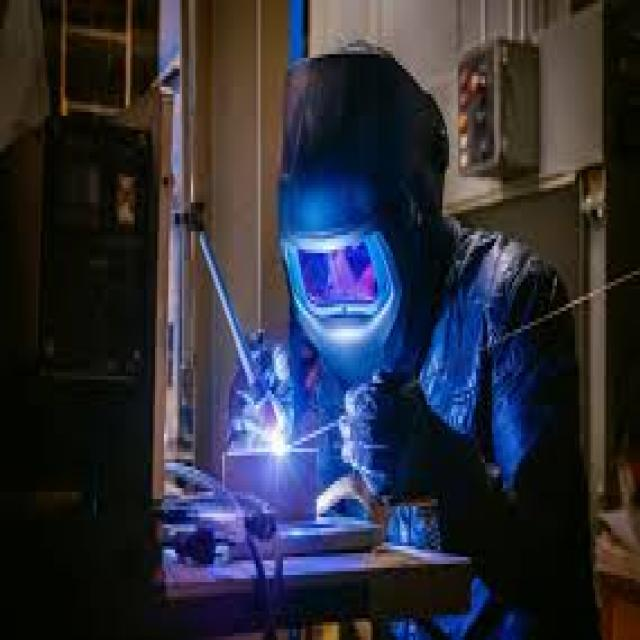welding: (270, 427, 292, 460)
